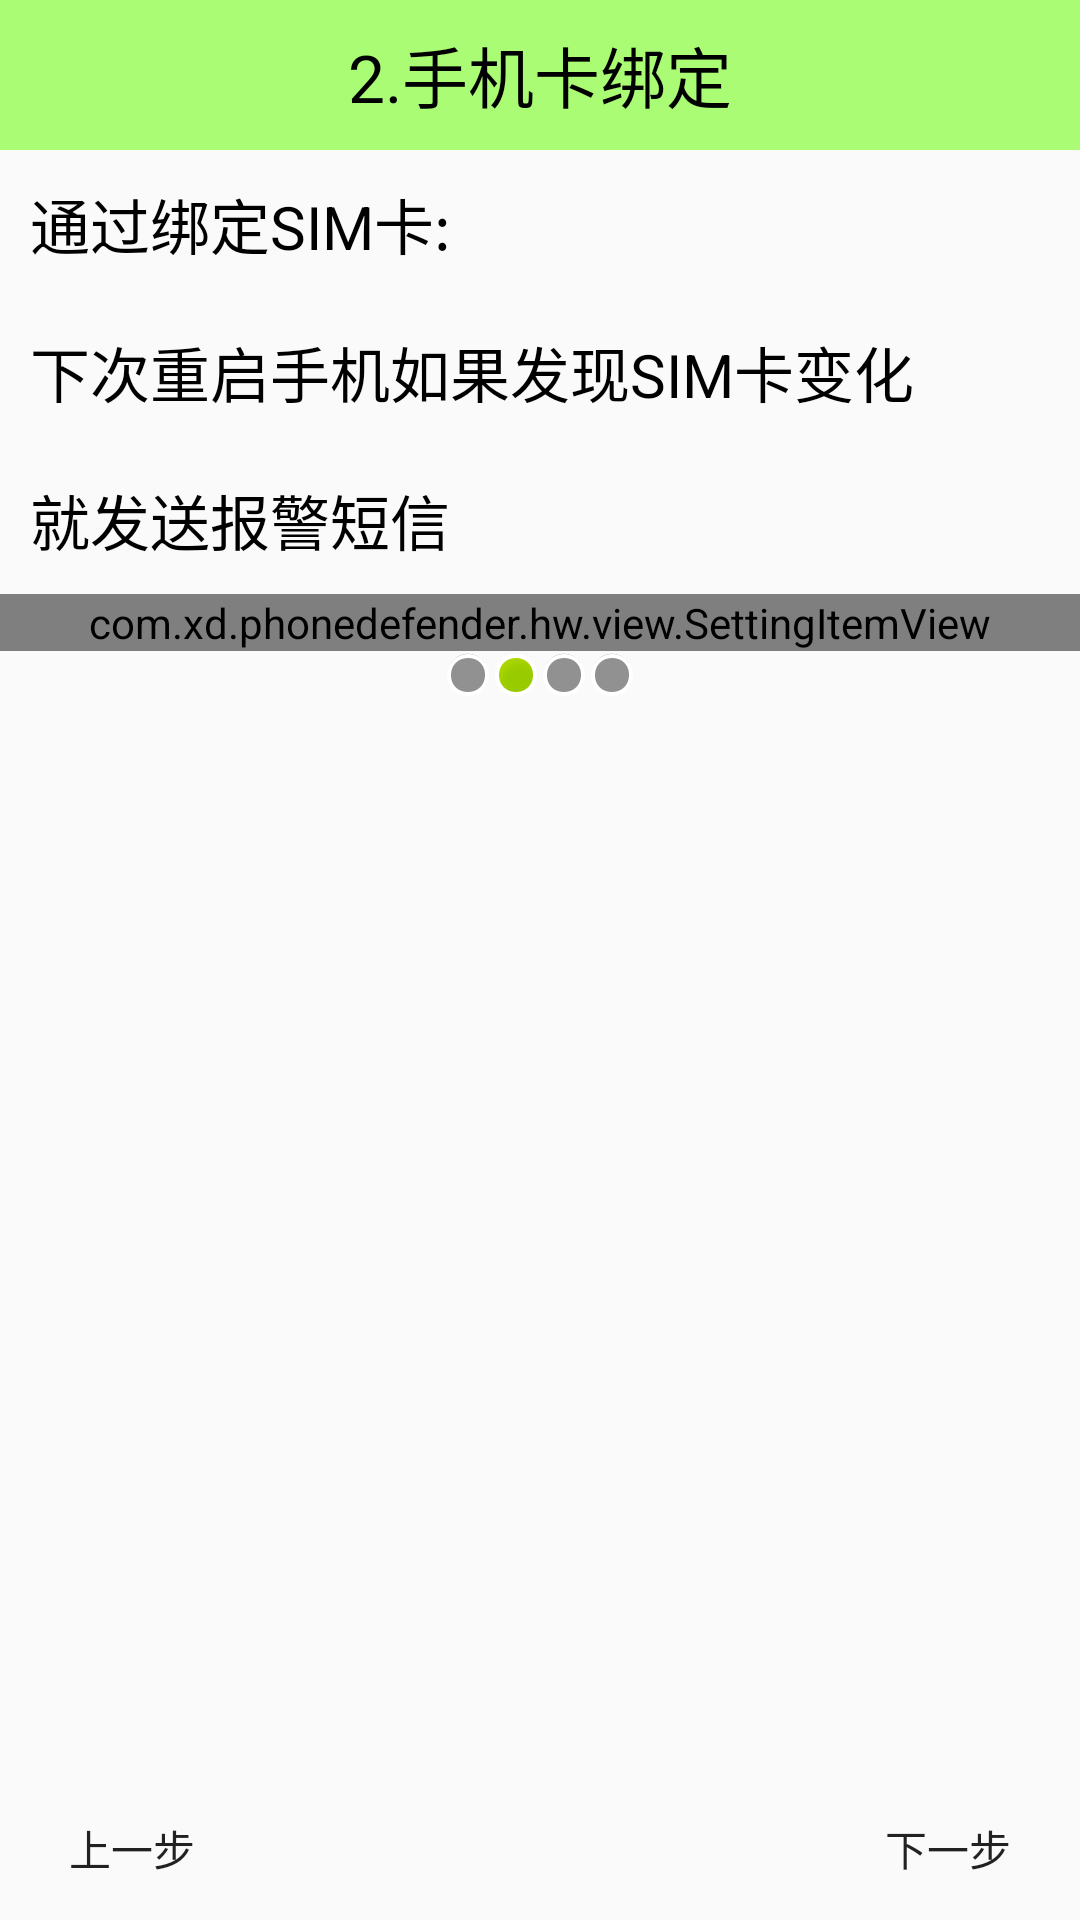

Where icons sit on this 1080×1920 app screen, as box=[x1, y1, x2, y2]:
presence invisible: box=[451, 654, 485, 692], box=[547, 654, 581, 692], box=[595, 654, 629, 692]
presence online: box=[499, 658, 533, 692]
